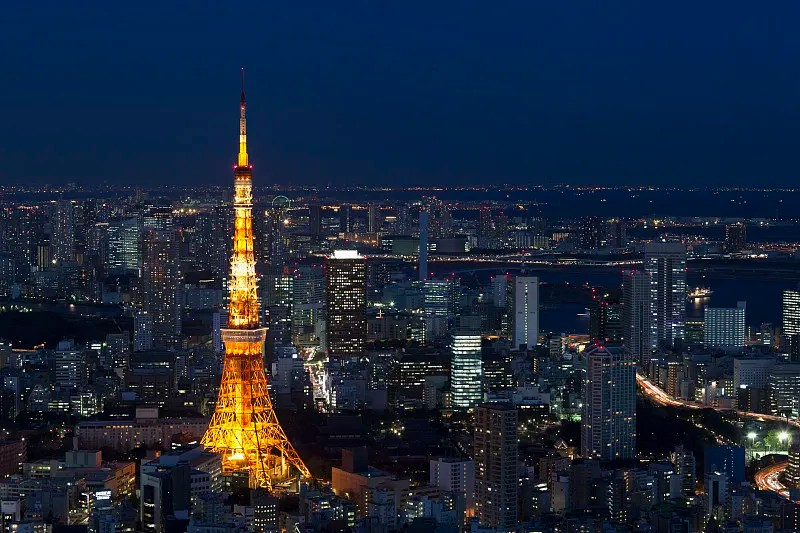Tokyo: (198, 63, 315, 502)
